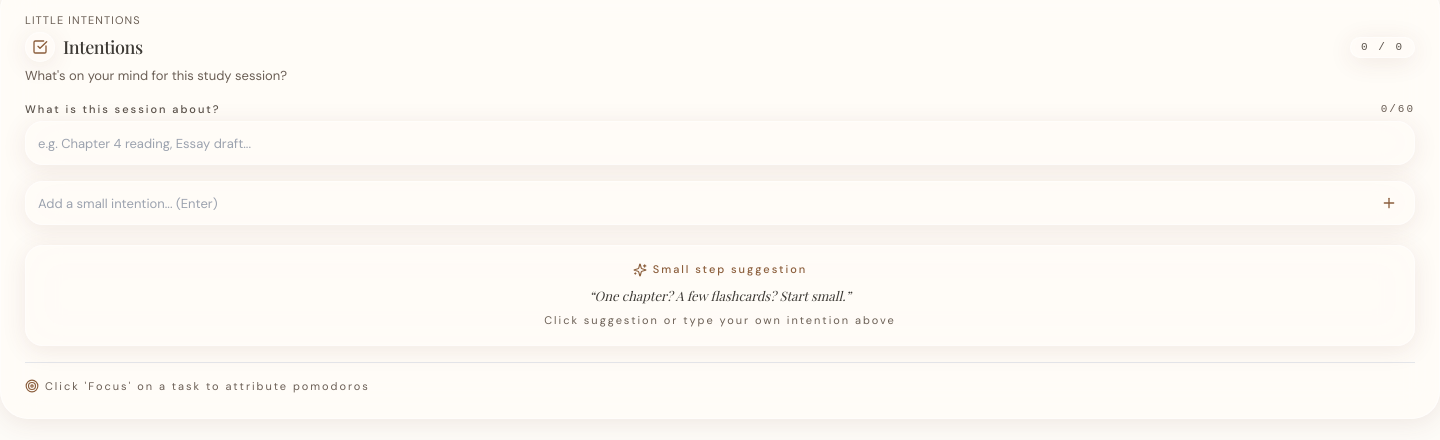
Test: IntentionsCard › clicking a suggestion hint adds it directly to tasks
Click the button "“One chapter? A few flashcards? Start small.”": coordinates (720, 295) [589,286,851,305]
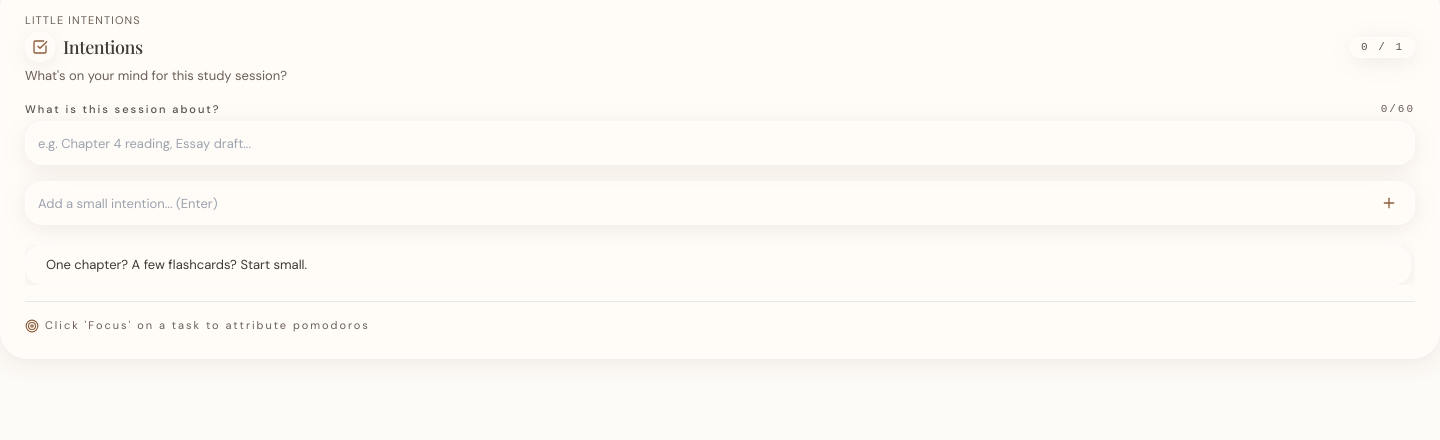
Check: the text "0 / 1" is shown, box [1350,37,1415,58]
